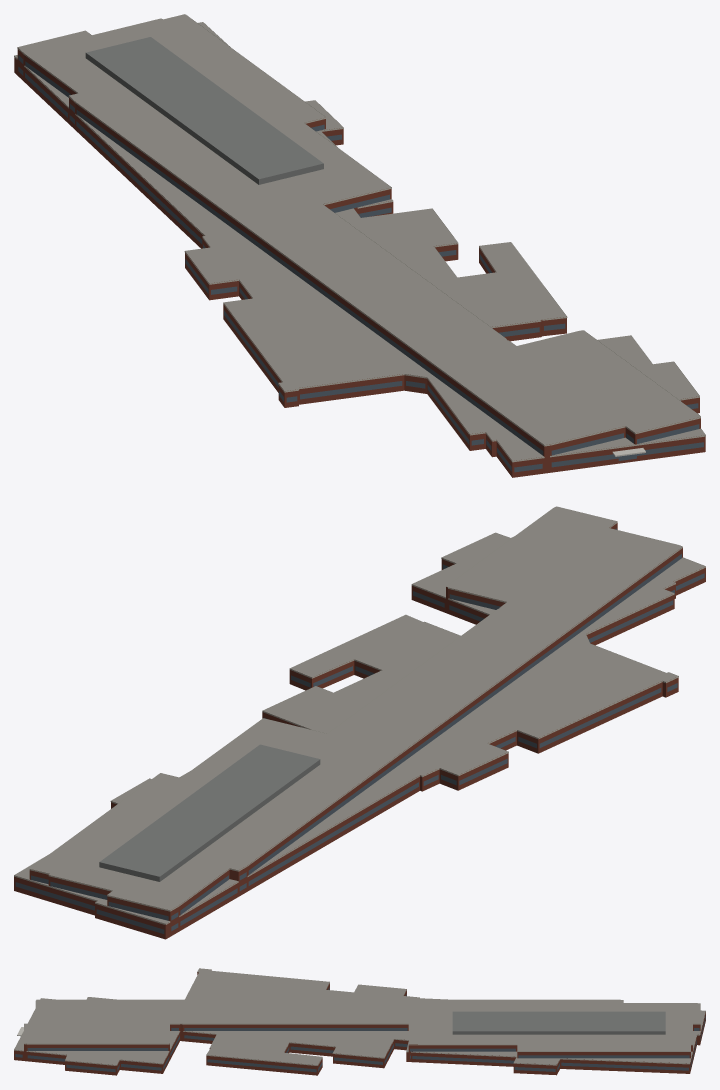
The model's file is little-rock-motor-vehicle-office.glb.
3 views of the same model, one above another, from view 1: azimuth 30°, elevation 25°; view 2: azimuth 150°, elevation 25°; view 3: azimuth 270°, elevation 25° (orthographic). The views are drawn at different scales.
Visible parts, largest first — view 1: little_rock_motor_vehicle_office; view 2: little_rock_motor_vehicle_office; view 3: little_rock_motor_vehicle_office.
Boxes of the visible parts, x1,y1,x2,y2 form: little_rock_motor_vehicle_office: (14, 14, 705, 477); little_rock_motor_vehicle_office: (14, 506, 705, 939); little_rock_motor_vehicle_office: (14, 968, 705, 1075).
Size of the model in its own units: 116 by 11.76 by 351.
